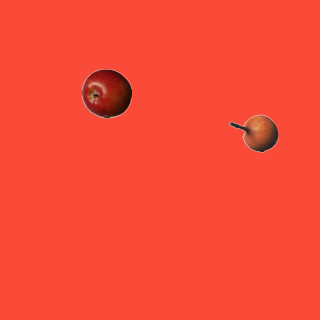Apple Braeburn: (81, 68, 131, 118)
Granadilla: (228, 108, 278, 158)
